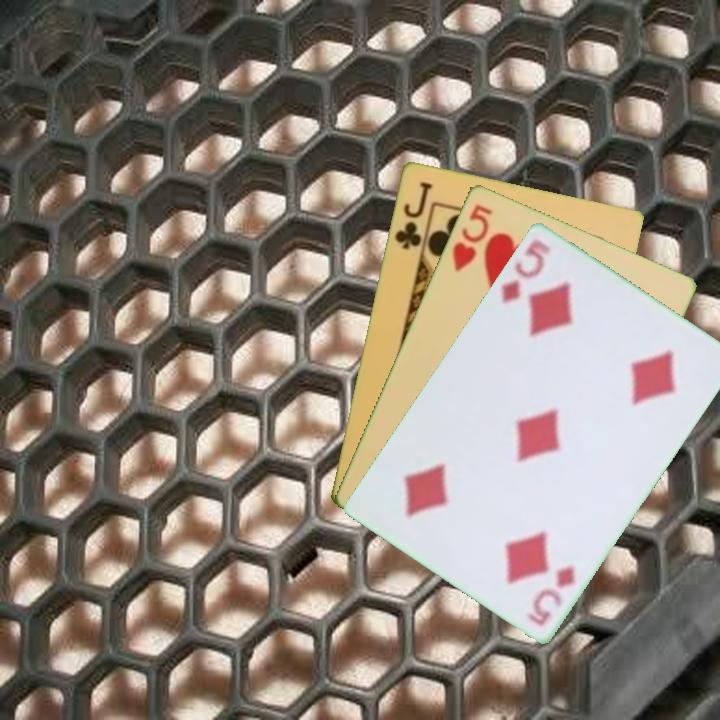5d: (497, 235, 554, 306), (524, 562, 579, 629)
5h: (448, 199, 496, 275)
Jc: (391, 177, 435, 252)
